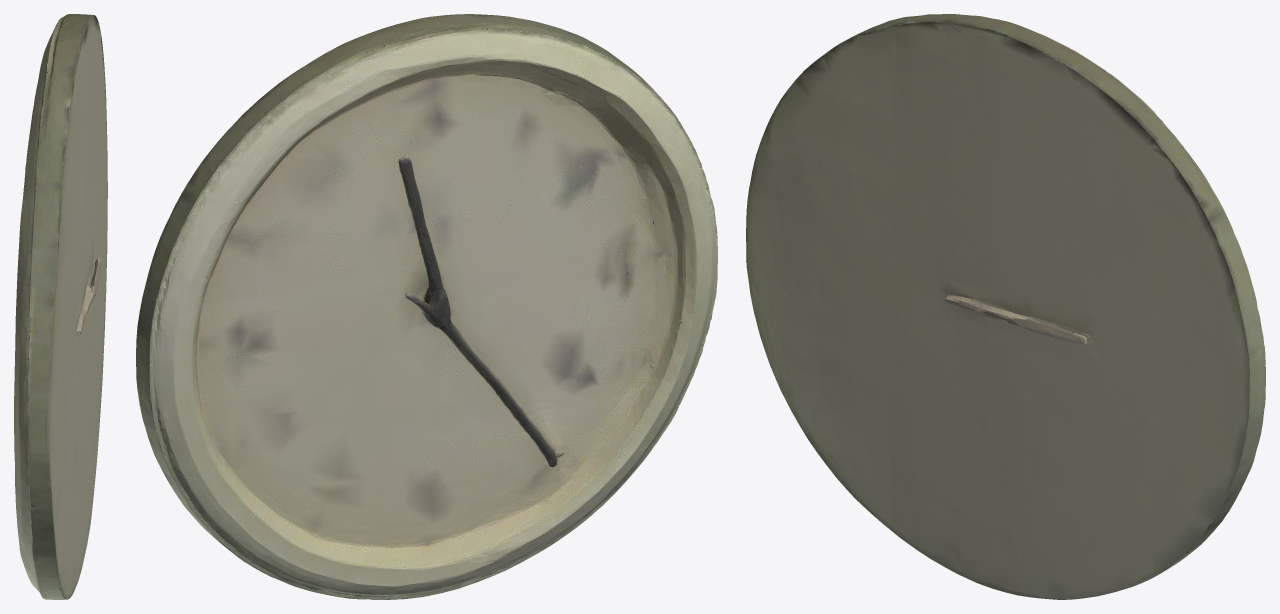
The model's file is round_analog_clock_on_wall_000.glb.
3 views of the same model, side by side, from view 1: azimuth 30°, elevation 25°; view 2: azimuth 150°, elevation 25°; view 3: azimuth 270°, elevation 25° (orthographic). The views are drawn at different scales.
Parts seen in each view (by area): view 1: phase2_final_round_analog_clock_on_wall_000.obj; view 2: phase2_final_round_analog_clock_on_wall_000.obj; view 3: phase2_final_round_analog_clock_on_wall_000.obj.
Boxes of the visible parts, x1,y1,x2,y2 form: phase2_final_round_analog_clock_on_wall_000.obj: (14,14,107,599); phase2_final_round_analog_clock_on_wall_000.obj: (136,14,717,599); phase2_final_round_analog_clock_on_wall_000.obj: (746,14,1265,599).
Size of the model in its own units: 0.1252 by 0.2027 by 0.1702.
Materials: 1 (1 with a texture image).
